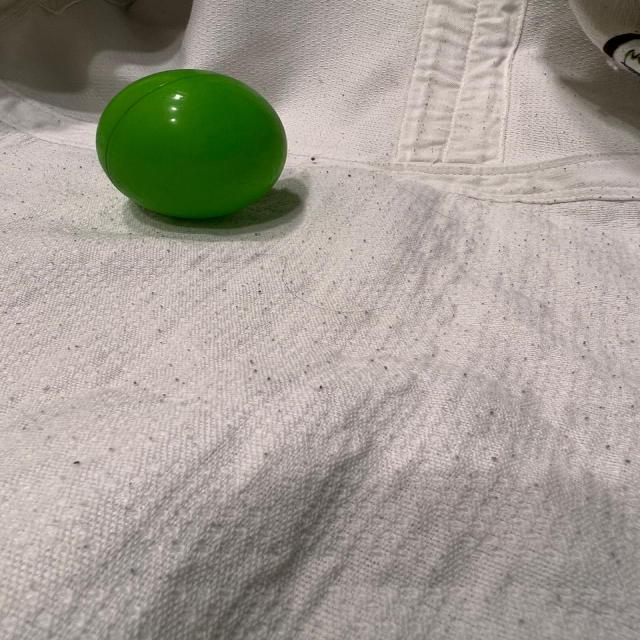ball: (96, 65, 292, 223)
